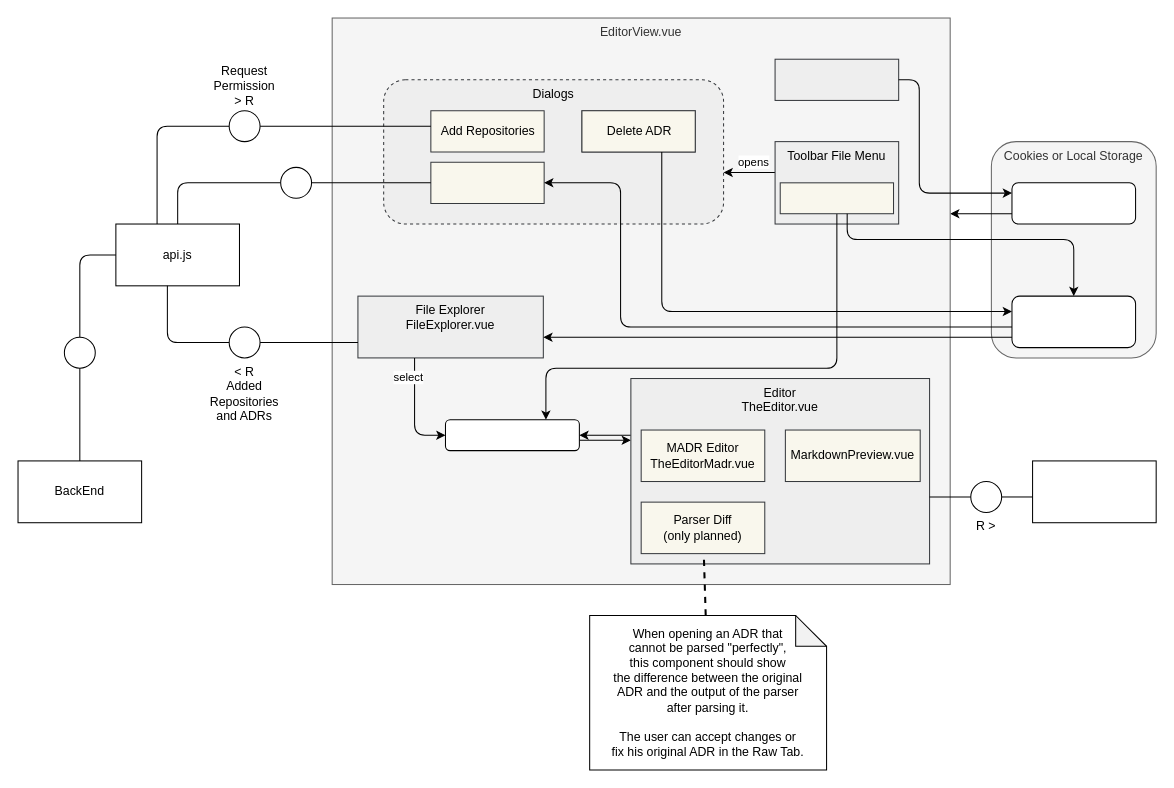
The diagram is 1174 pixels wide and 788 high, and some of its shapes have lost their labels. Here are the shapes that lost their labels. From the top down, the centre of each, then its label:
At point 836,79: "Toolbar Mode Menu".
At point 296,182: "< R Commit Changes".
At point 487,182: "Commit Changes".
At point 836,198: "Create new ADR".
At point 1073,203: "Mode".
At point 1073,321: "Edited ADRs".
At point 79,352: "R v".
At point 511,435: "Currently edited ADR".
At point 1094,491: "Parser".
